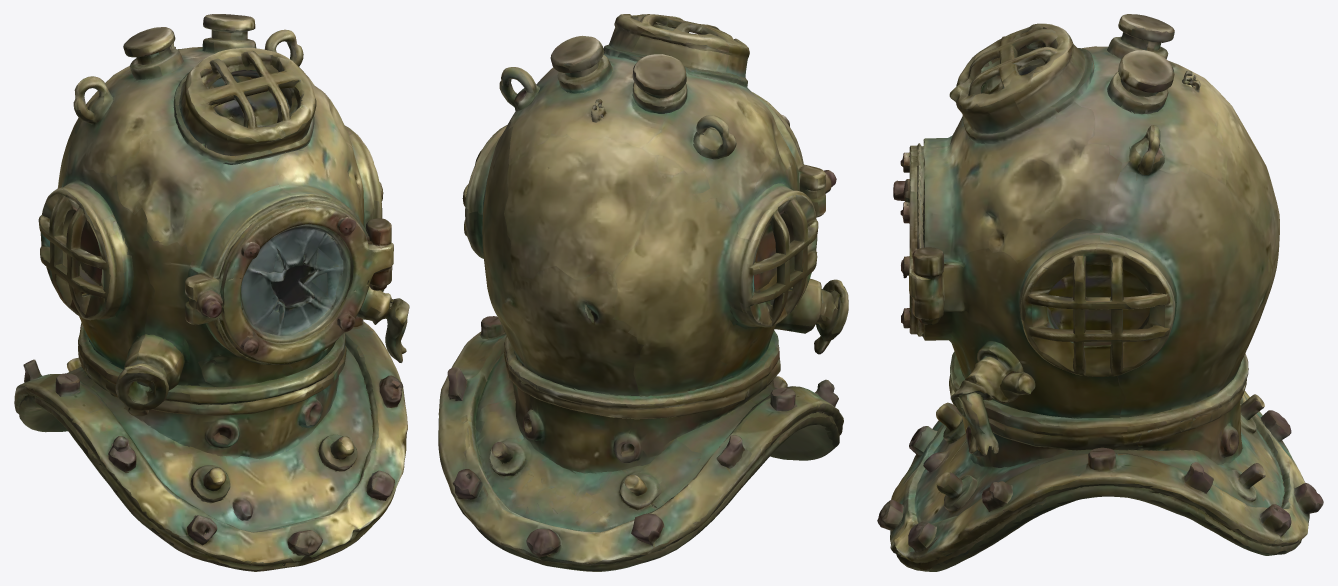
The model's file is helmet-broken.glb.
The picture shows the model from 3 angles, left to right: view 1: azimuth 30°, elevation 25°; view 2: azimuth 150°, elevation 25°; view 3: azimuth 270°, elevation 25°; orthographic projection. The views are drawn at different scales.
Visible parts, largest first — view 1: geometry_0; view 2: geometry_0; view 3: geometry_0.
Part boxes in pixels (x1=…): geometry_0: x1=14, y1=14, x2=409, y2=571; geometry_0: x1=438, y1=14, x2=848, y2=571; geometry_0: x1=877, y1=14, x2=1323, y2=571.
Size of the model in its own units: 0.3215 by 0.45 by 0.3607.
1 material, 1 textured.
